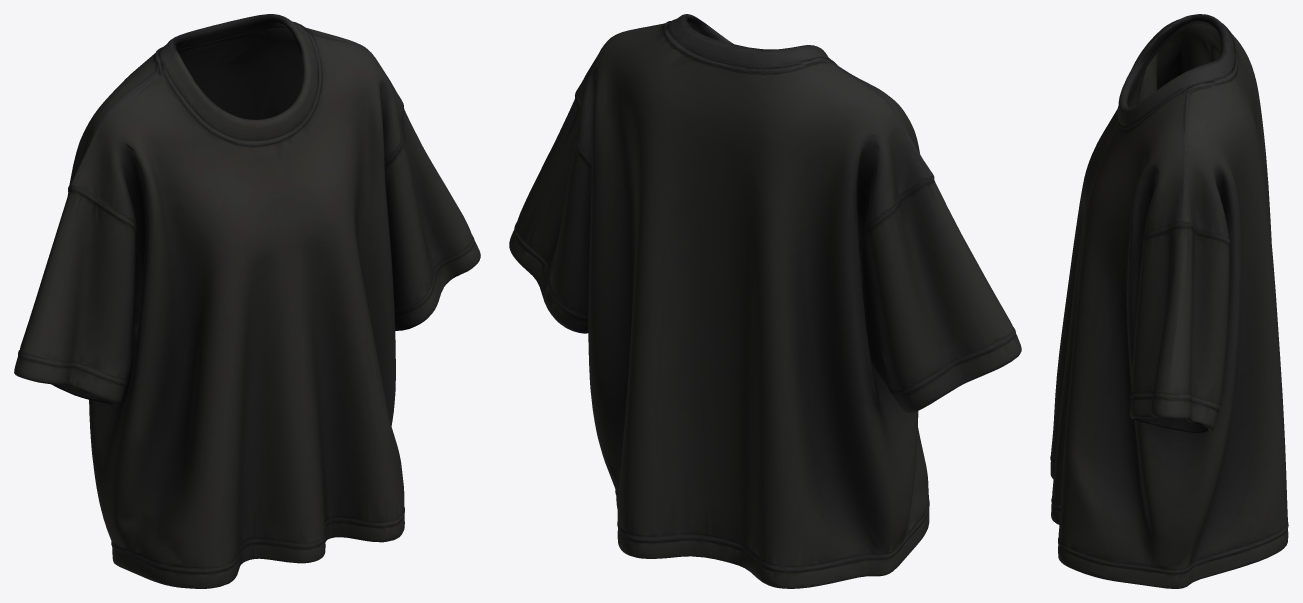
File: tshirt.glb
3 renders of one model, left to right at view 1: azimuth 30°, elevation 25°; view 2: azimuth 150°, elevation 25°; view 3: azimuth 270°, elevation 25°, orthographic. The views are drawn at different scales.
Visible parts, largest first — view 1: node_0; view 2: node_0; view 3: node_0.
Boxes of the visible parts, x1,y1,x2,y2 form: node_0: (14, 14, 480, 588); node_0: (509, 14, 1021, 588); node_0: (1050, 14, 1288, 588).
Bounding box in the file's own units: 1.05 × 1.06 × 0.4662.
1 material, 1 textured.
